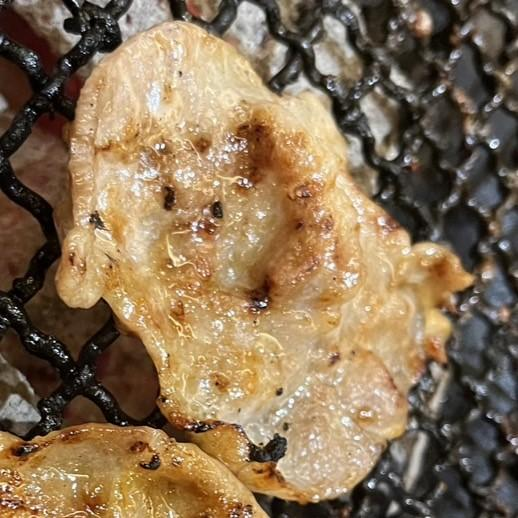Overcooked: (55, 21, 472, 500)
Well-Cooked: (0, 423, 268, 517)
